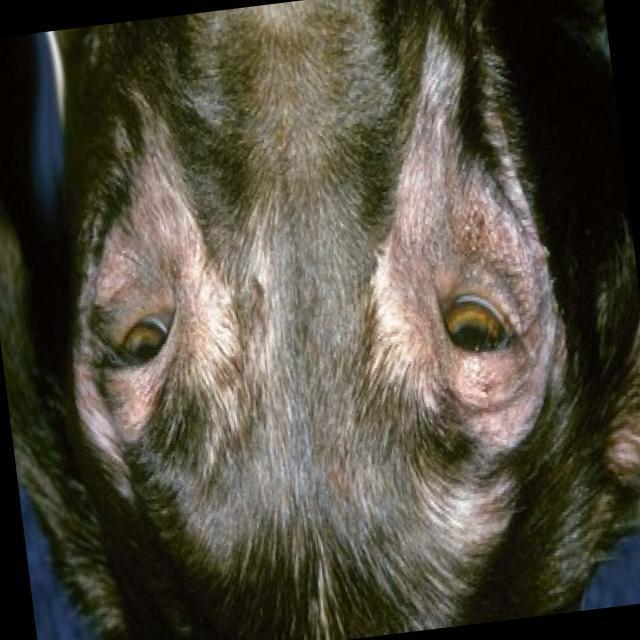allergic dermatitis: (378, 182, 439, 403), (172, 185, 220, 413), (419, 204, 523, 290), (100, 236, 173, 306), (433, 357, 532, 408), (100, 367, 187, 418), (520, 269, 548, 390)
